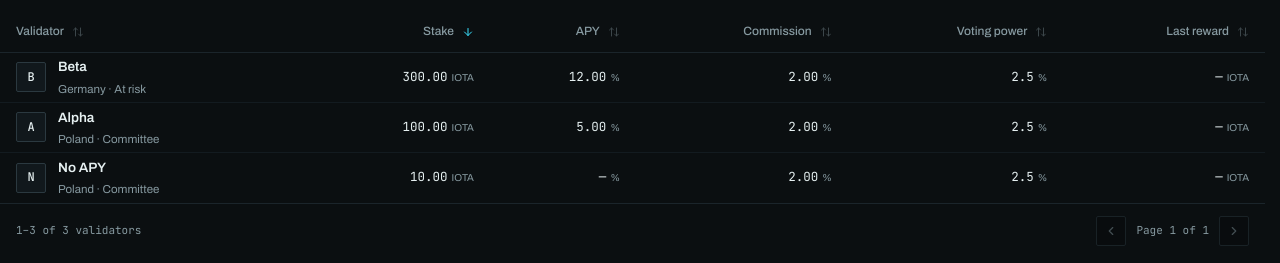
Test case: ValidatorsTable › sorts both ways and sets aria-sort
Later steps or results of the test are not shown.
Click the button with aria-label "Sort by APY" at [598, 32], box [576,15,620,48]
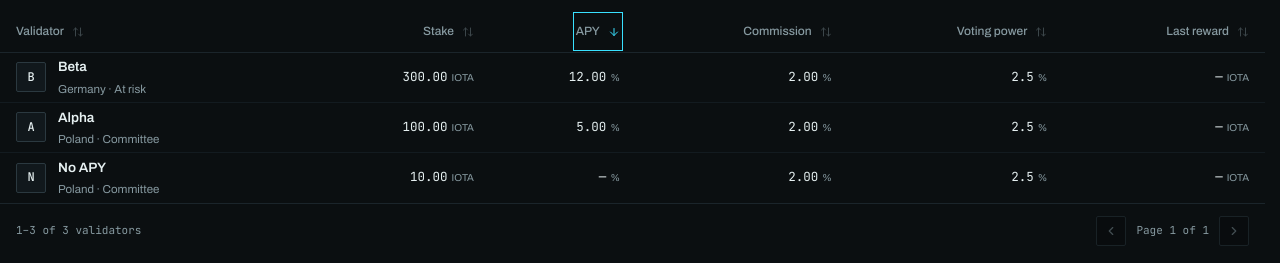
Result: the column heading "APY" has attribute aria-sort="descending" at [490,12,636,52]
